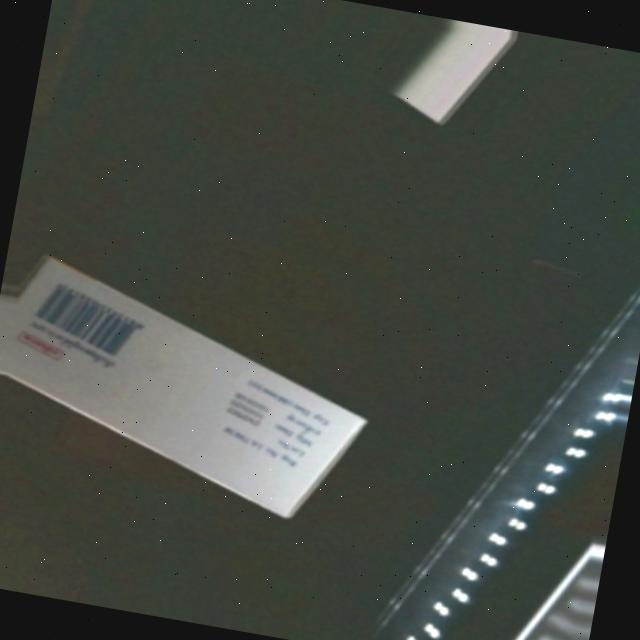sefloc: (0, 245, 384, 521)
